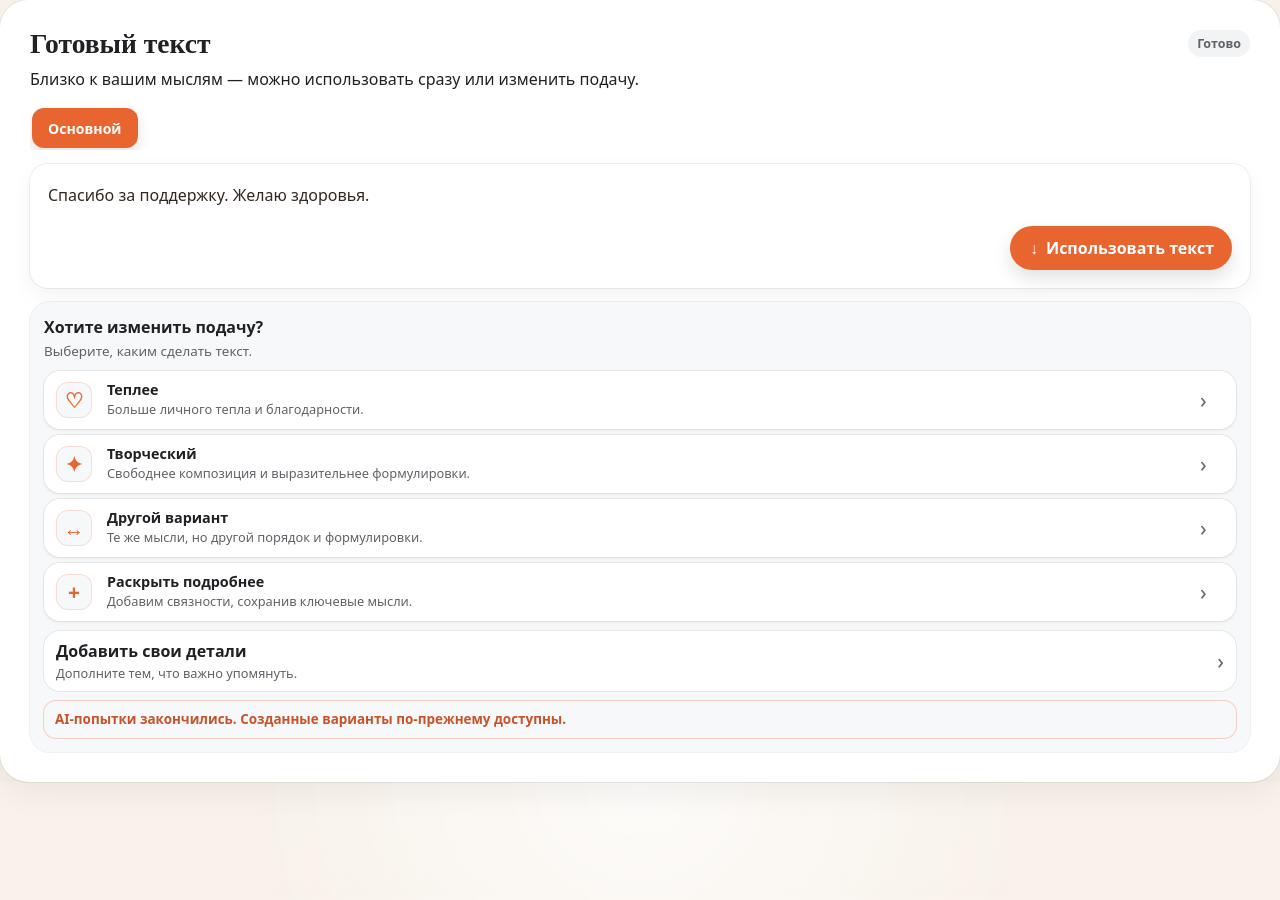
Test: JoinSidePanel — приоритет состояний › явно объясняет отключённые действия после окончания попыток
Expected: the text "AI-попытки закончились. Созданные варианты по-прежнему доступны." is shown, [44, 701, 1236, 738]
Click the button "Другой вариант": point(74, 528) [44, 499, 1236, 557]
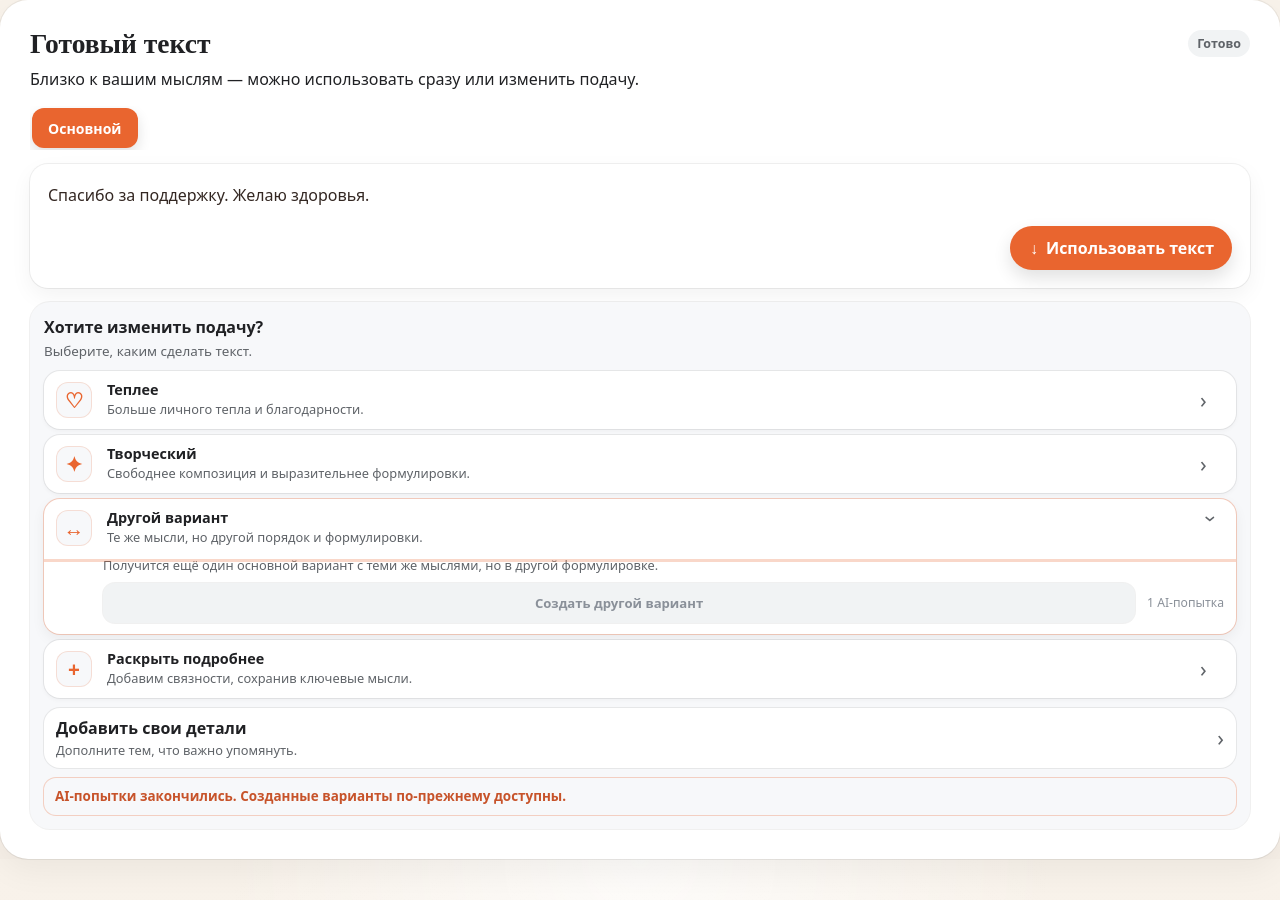
Expected: the tab "Основной" is enabled, [32, 108, 138, 148]
Expected: the button "Создать другой вариант" is disabled, [103, 583, 1135, 623]
